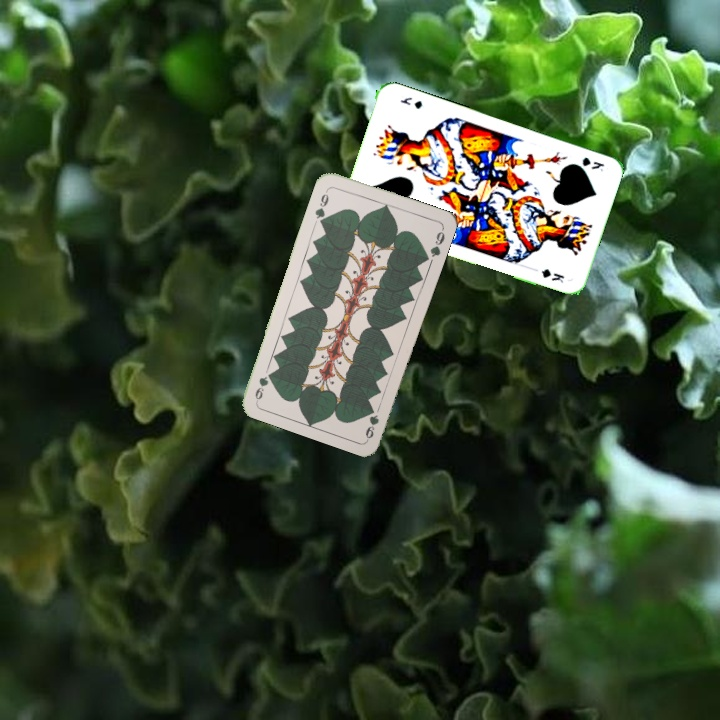G9: (311, 184, 332, 225), (361, 403, 382, 442)
GK: (578, 153, 607, 174)
